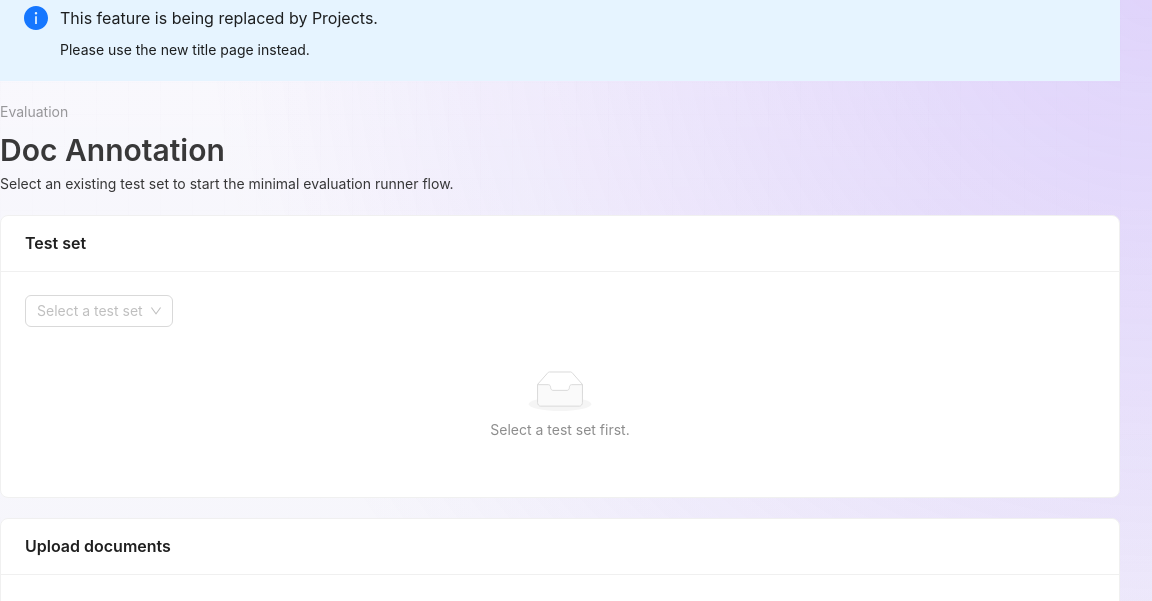
Test case: DocAnnotationPage › shows a loading state instead of an empty-state message while documents are loading
Press the mouse on the dropdown named "Test set selector" at (90, 311), box left=37, top=302, right=143, bottom=319
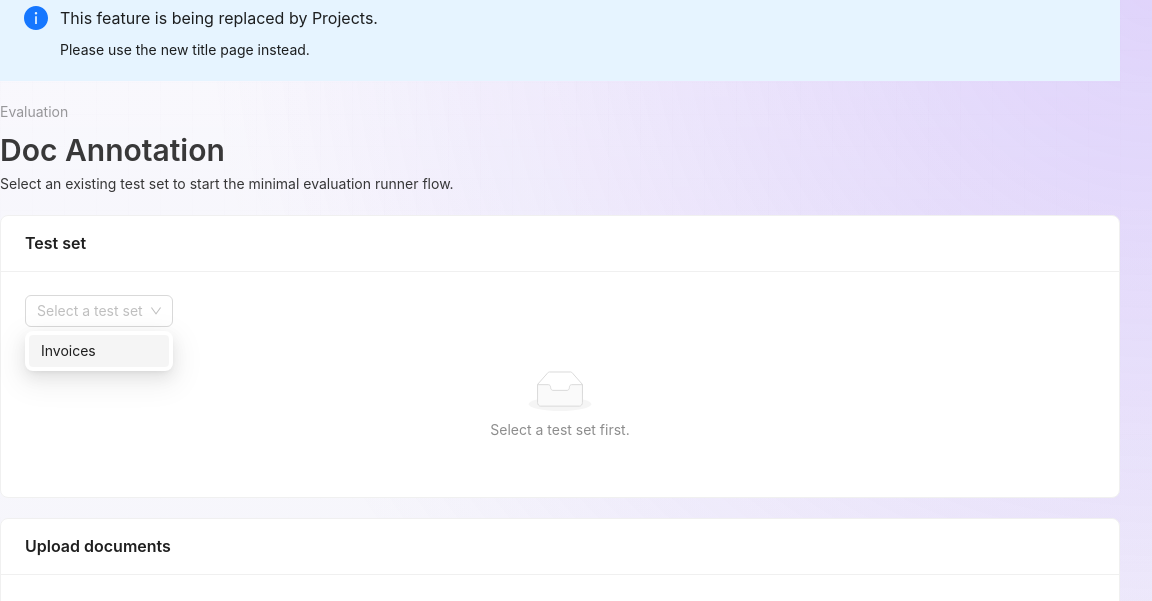
Click the text "Invoices". click: (68, 350)
box: left=41, top=342, right=96, bottom=359
(page scrolled)
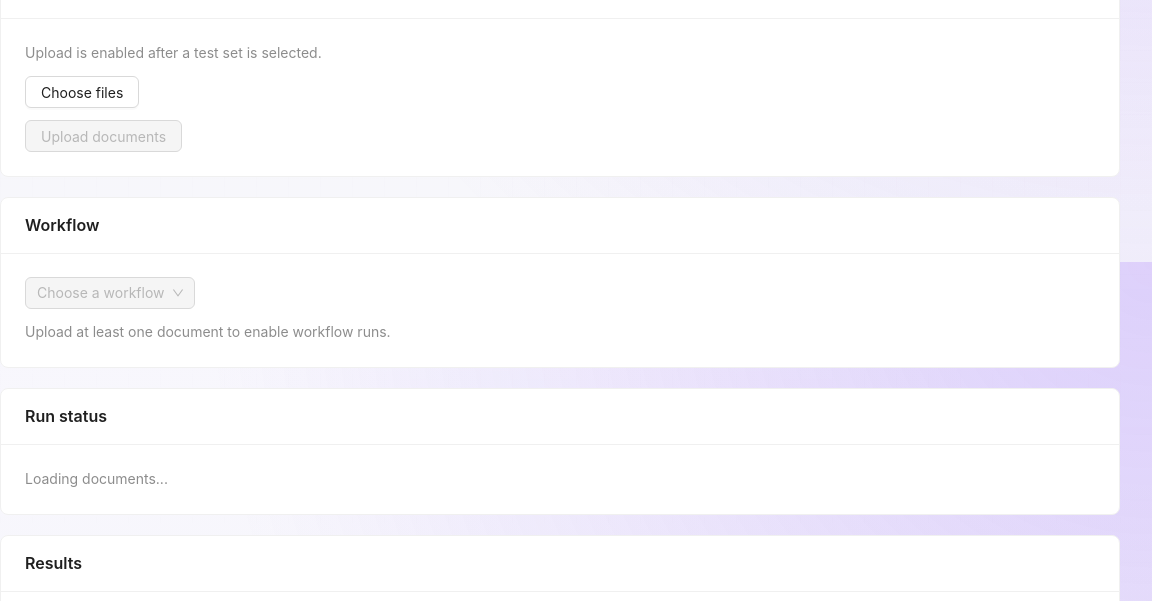
Now the text "Loading documents..." is shown, box left=25, top=470, right=168, bottom=487
